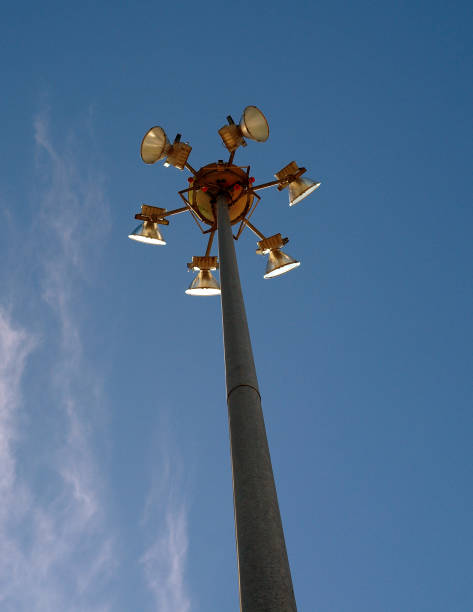light_pole: (206, 234, 302, 608)
